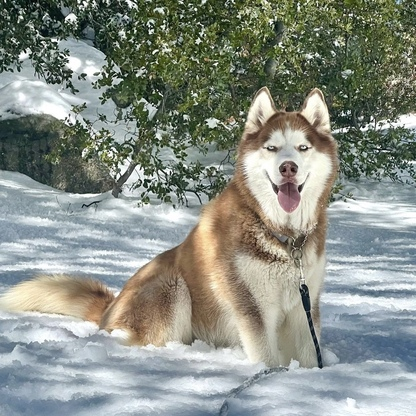husky: (2, 83, 346, 375)
